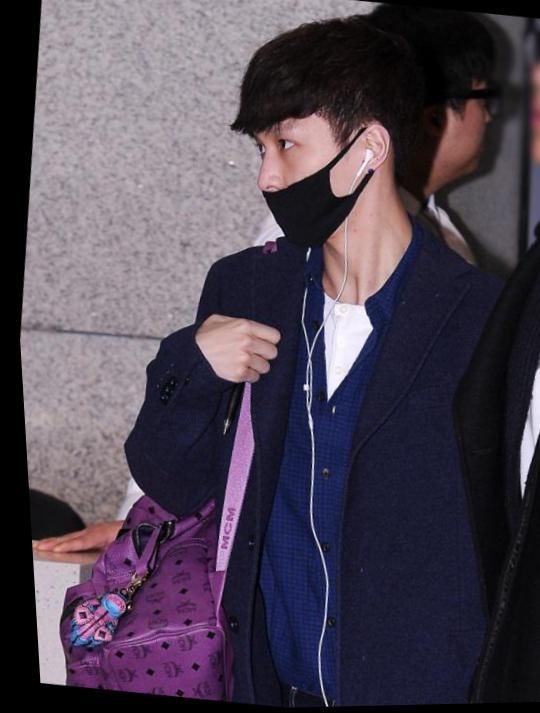NONE: (401, 52, 508, 186), (505, 27, 540, 188)
WRONG: (232, 103, 394, 261)
